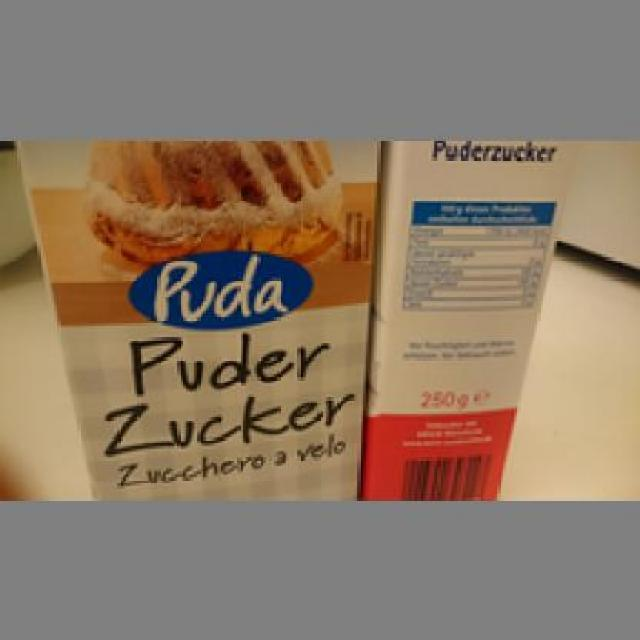Sugar: (9, 137, 374, 492), (360, 137, 569, 494)
